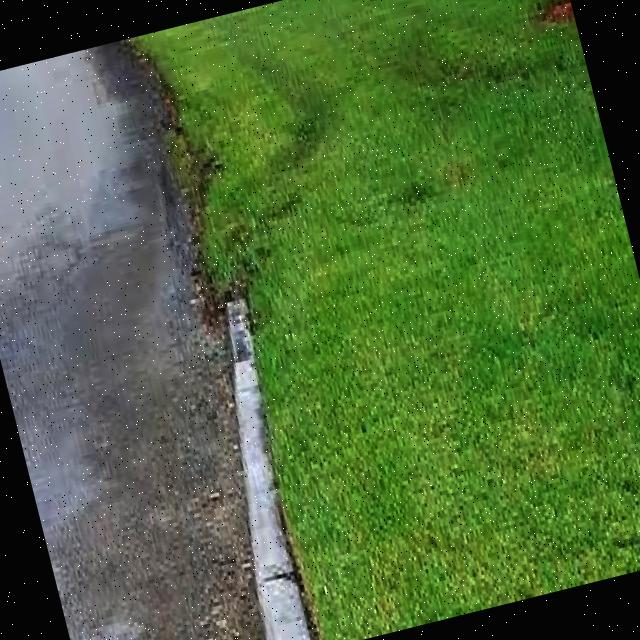curb: (217, 302, 310, 640)
